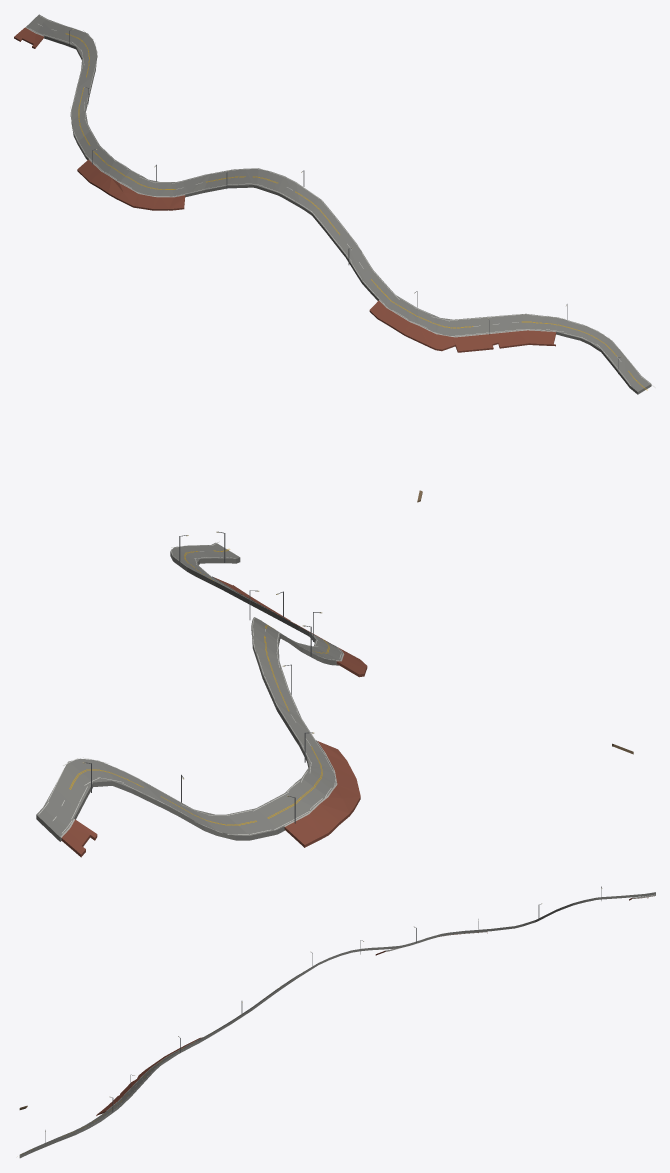
3 renders of one model, top to bottom at view 1: azimuth 30°, elevation 25°; view 2: azimuth 150°, elevation 25°; view 3: azimuth 270°, elevation 25°, orthographic. The views are drawn at different scales.
Size of the model in its own units: 148 by 108 by 294.
